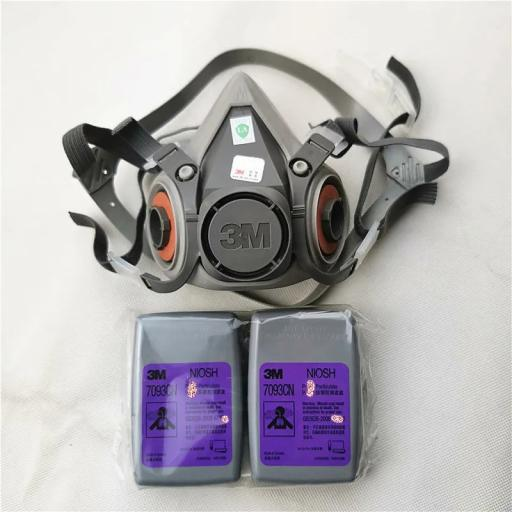mask: (52, 31, 458, 302)
